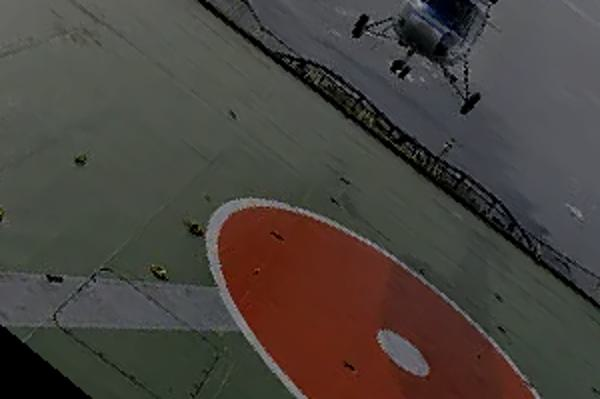Apron: (202, 177, 569, 399)
